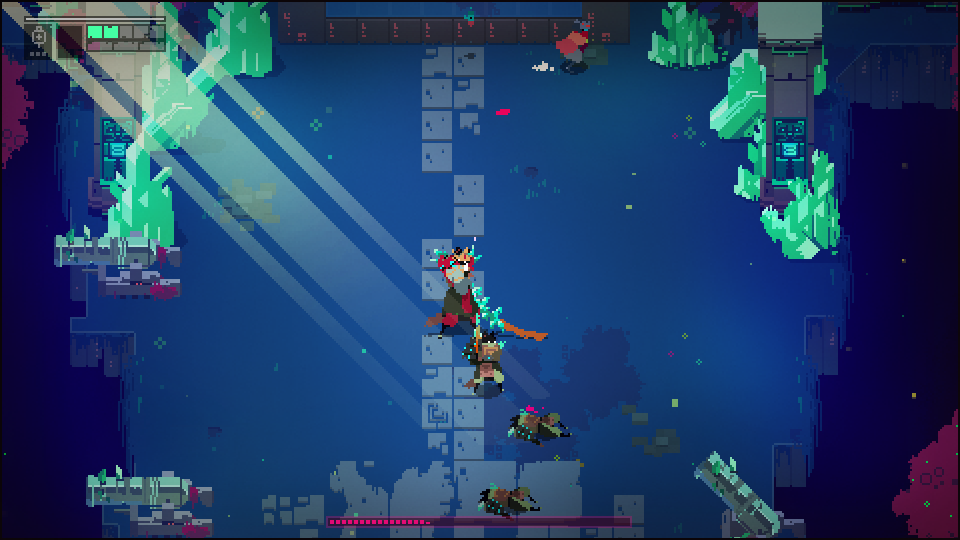hanged_man: (417, 239, 515, 342)
player: (549, 19, 593, 70)
